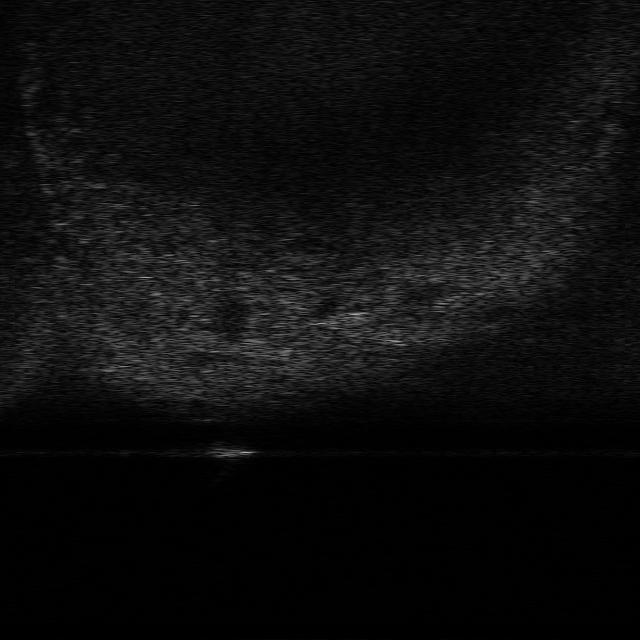cube: (195, 438, 261, 462)
